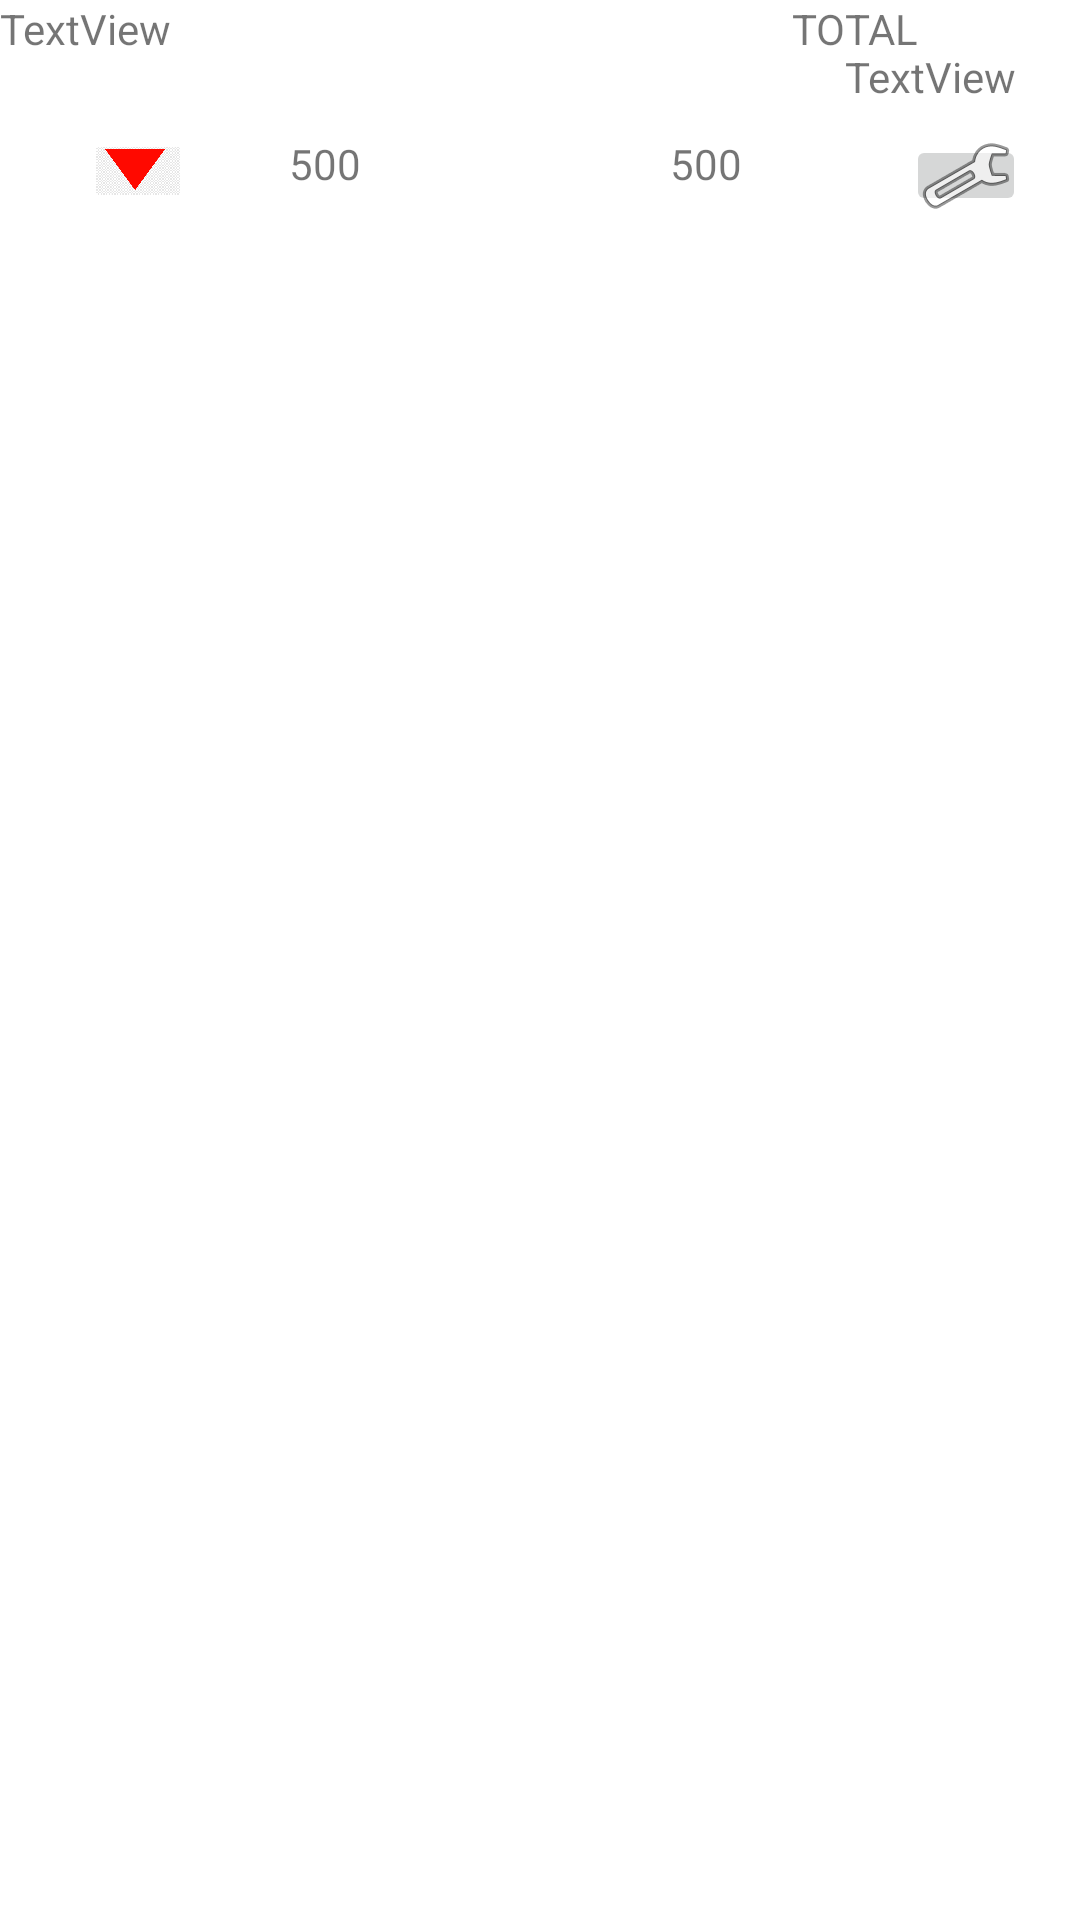

Icon bounding boxes for this 1080px×1920px phone screenshot, format (x1, y1, x2, y2):
preferences: (918, 143, 1014, 209)
triangulo rojo: (96, 147, 180, 195)
